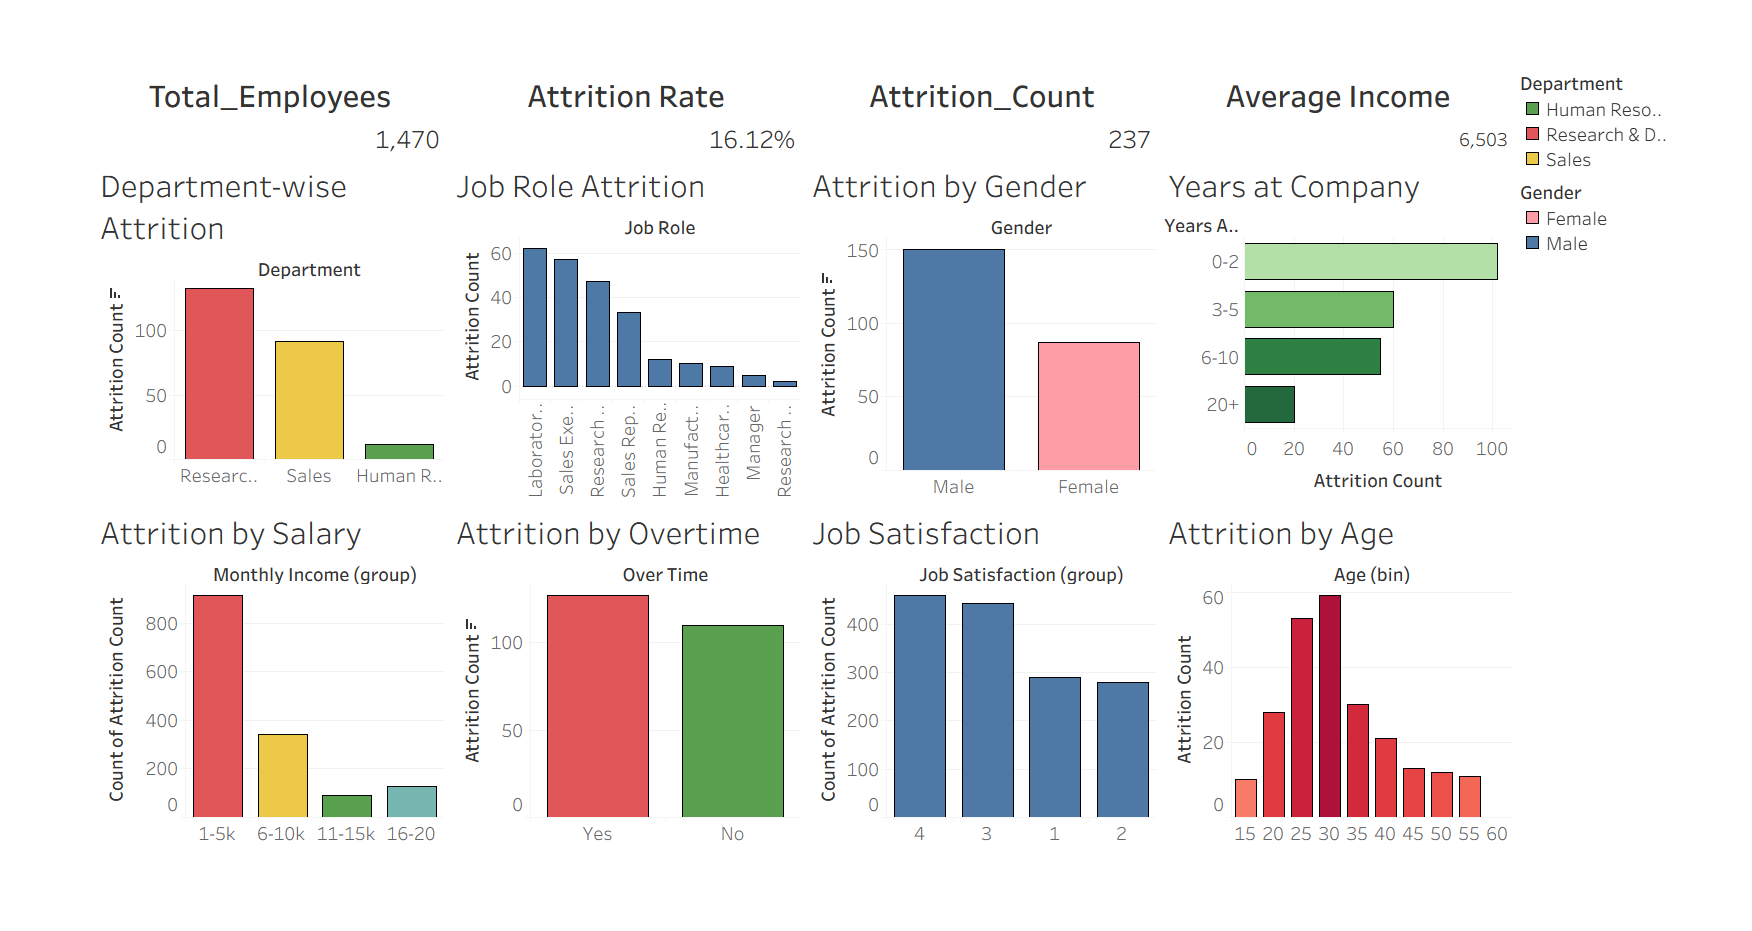

What the dashboard file says about the page in this screenshot:
{"tool":"tableau","page":{"name":"Dashboard 1","canvas":[1600,800],"ordinal":0},"visuals":[{"type":"worksheet","title":"Total_Employees","mark":"Automatic","box":[8,8,356,89.6]},{"type":"worksheet","title":"Attrition Rate","mark":"Automatic","box":[364,8,356,89.6]},{"type":"worksheet","title":"Attrition_Count","mark":"Automatic","box":[720,8,356,89.6]},{"type":"worksheet","title":"Average Income","mark":"Automatic","box":[1076,8,356,89.6]},{"type":"legend","title":"Department-wise Attrition","param":"[federated.1kqdqcp0r55dpo1bm48nx0veipqt].[none:Department:nk]","box":[1432,8,160,109]},{"type":"worksheet","title":"Department-wise Attrition","mark":"Bar","rows":["Calculation_0523110409674752"],"cols":["Department"],"box":[8,97.6,356,347.2]},{"type":"worksheet","title":"Job Role Attrition","mark":"Automatic","rows":["Calculation_0523110409674752"],"cols":["JobRole"],"box":[364,97.6,356,347.2]},{"type":"worksheet","title":"Attrition by Gender","mark":"Automatic","rows":["Calculation_0523110409674752"],"cols":["Gender"],"box":[720,97.6,356,347.2]},{"type":"worksheet","title":"Years at Company","mark":"Bar","cols":["Calculation_0523110409674752"],"box":[1076,97.6,356,347.2]},{"type":"legend","title":"Attrition by Gender","param":"[federated.1kqdqcp0r55dpo1bm48nx0veipqt].[none:Gender:nk]","box":[1432,117,160,84]},{"type":"worksheet","title":"Attrition by Salary","mark":"Bar","rows":["Calculation_0523110409674752"],"box":[8,444.8,356,347.2]},{"type":"worksheet","title":"Attrition by Overtime","mark":"Automatic","rows":["Calculation_0523110409674752"],"cols":["OverTime"],"box":[364,444.8,356,347.2]},{"type":"worksheet","title":"Job Satisfaction","mark":"Automatic","rows":["Calculation_0523110409674752"],"box":[720,444.8,356,347.2]},{"type":"worksheet","title":"Attrition by Age","mark":"Bar","rows":["Calculation_0523110409674752"],"cols":["Age (bin)"],"box":[1076,444.8,356,347.2]}]}

Visuals, with their boxes on the page's 1600x800 design canvas (x1, y1, x2, y2). These are canvas units, not pixel positions in the 1752x931 screenshot, which may show the page scaled, cropped or inside an application window:
"Total_Employees" worksheet: region(8, 8, 364, 98)
"Attrition Rate" worksheet: region(364, 8, 720, 98)
"Attrition_Count" worksheet: region(720, 8, 1076, 98)
"Average Income" worksheet: region(1076, 8, 1432, 98)
"Department-wise Attrition" legend: region(1432, 8, 1592, 117)
"Department-wise Attrition" worksheet (Bar marks): region(8, 98, 364, 445)
"Job Role Attrition" worksheet: region(364, 98, 720, 445)
"Attrition by Gender" worksheet: region(720, 98, 1076, 445)
"Years at Company" worksheet (Bar marks): region(1076, 98, 1432, 445)
"Attrition by Gender" legend: region(1432, 117, 1592, 201)
"Attrition by Salary" worksheet (Bar marks): region(8, 445, 364, 792)
"Attrition by Overtime" worksheet: region(364, 445, 720, 792)
"Job Satisfaction" worksheet: region(720, 445, 1076, 792)
"Attrition by Age" worksheet (Bar marks): region(1076, 445, 1432, 792)
